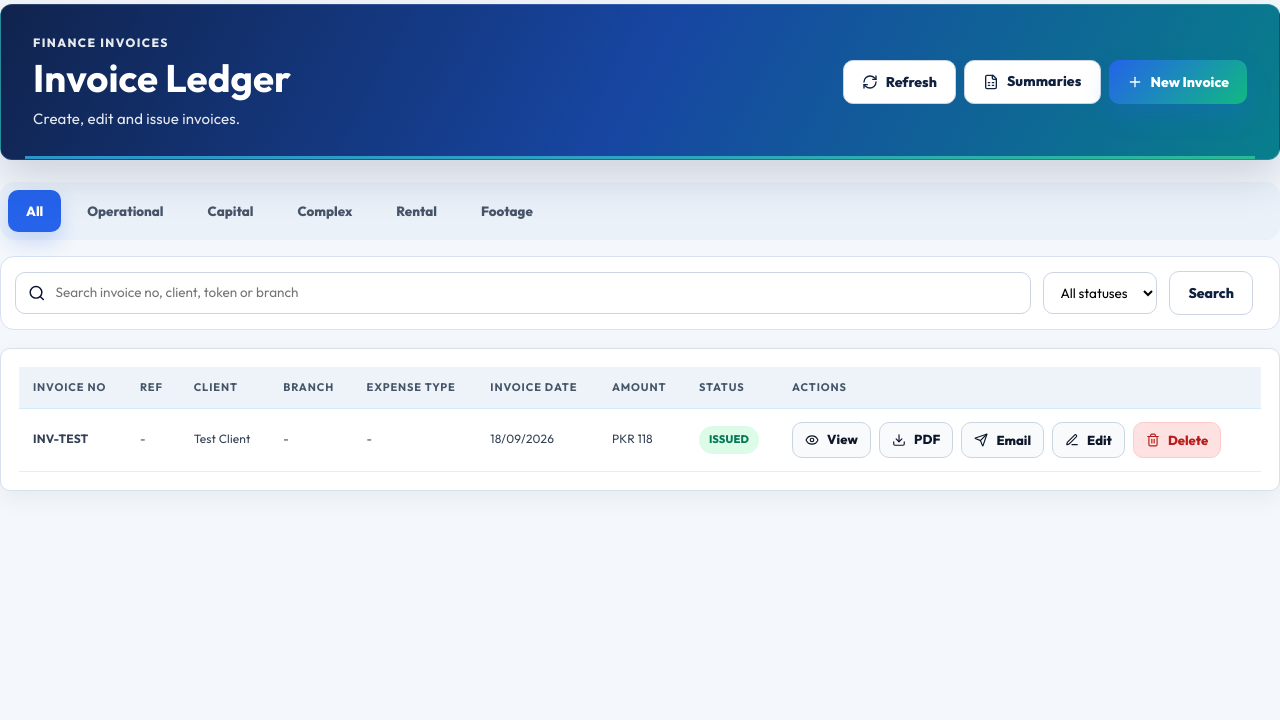
Test case: finance dedicated invoice workflow › shows only the invoice ledger until View is clicked
Expected: the text "INV-TEST" is shown, [33,431,88,446]
Expected: the text "Sale Tax Invoice" is not shown
Click the link "View": [832, 440] box [792,422,871,458]
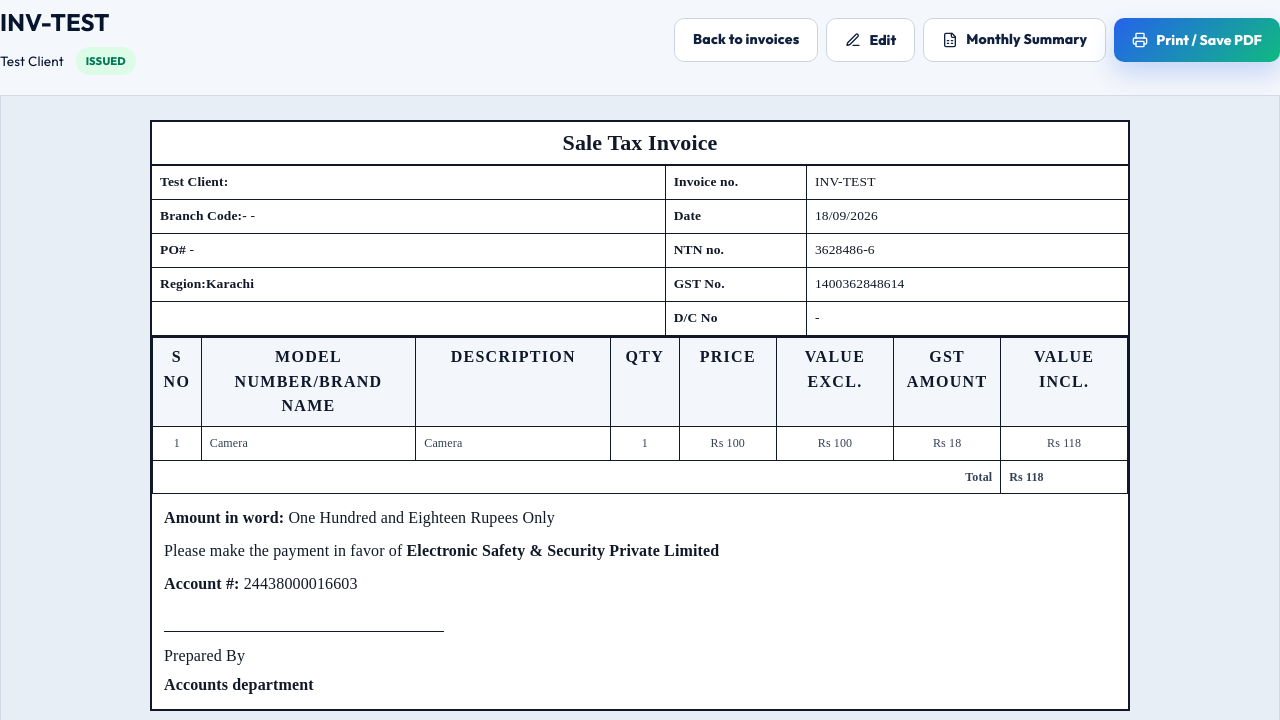
Expected: the text "Sale Tax Invoice" is shown, [152,122,1128,166]
